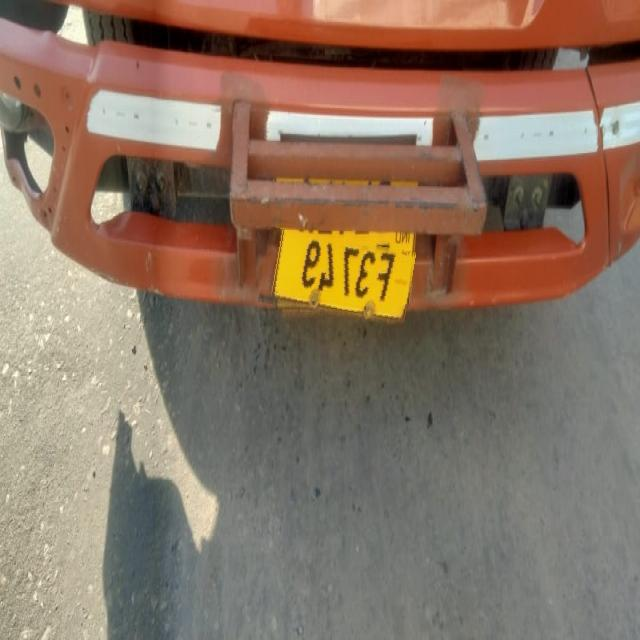License-plate: (260, 233, 413, 321)
